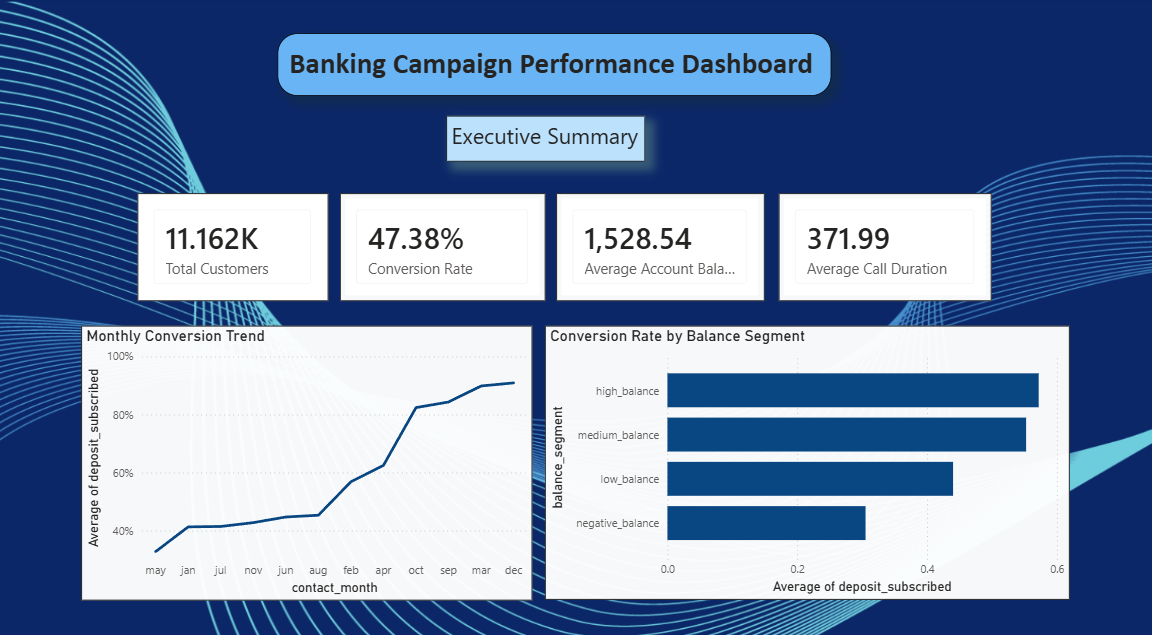

Layout of this report page (visuals, bound fields, positions):
{"tool":"powerbi","page":{"name":"Executive Dashboard","canvas":[1280,720],"ordinal":0},"visuals":[{"type":"cardVisual","fields":{"Data":["Avg(final_banking_report.deposit_subscribed)"]},"box":[383.9,215.6,225.9,118.1],"z":0},{"type":"cardVisual","fields":{"Data":["Avg(final_banking_report.call_duration)"]},"box":[865.3,215.6,233.3,118.1],"z":1000},{"type":"cardVisual","fields":{"Data":["Avg(final_banking_report.account_balance)"]},"box":[621.7,215.6,228.9,118.1],"z":2000},{"type":"cardVisual","title":"Total Customers","fields":{"Data":["CountNonNull(final_banking_report.age)"]},"box":[162.4,215.6,209.7,118.1],"z":3000},{"type":"textbox","box":[315.6,39.8,607.9,68.6],"z":4000},{"type":"textbox","box":[500.6,129.9,218.6,50.2],"z":5000},{"type":"lineChart","title":"Monthly Conversion Trend","fields":{"Category":["final_banking_report.contact_month"],"Y":["Avg(final_banking_report.deposit_subscribed)"]},"box":[100.2,360.9,495.4,301.9],"z":6000},{"type":"clusteredBarChart","title":"Conversion Rate by Balance Segment","fields":{"Category":["final_banking_report.balance_segment"],"Y":["Avg(final_banking_report.deposit_subscribed)"]},"box":[609.3,360.9,576.3,300.5],"z":7000}]}

Visuals, with their boxes in screenshot pixels (x1, y1, x2, y2), scaled from the page's 1280x720 canvas onto the 1152x635 screenshot:
cardVisual - Avg(final_banking_report.deposit_subscribed): detection(346, 190, 549, 294)
cardVisual - Avg(final_banking_report.call_duration): detection(779, 190, 989, 294)
cardVisual - Avg(final_banking_report.account_balance): detection(560, 190, 766, 294)
"Total Customers" cardVisual: detection(146, 190, 335, 294)
textbox: detection(284, 35, 831, 96)
textbox: detection(451, 115, 647, 159)
"Monthly Conversion Trend" lineChart: detection(90, 318, 536, 585)
"Conversion Rate by Balance Segment" clusteredBarChart: detection(548, 318, 1067, 583)
